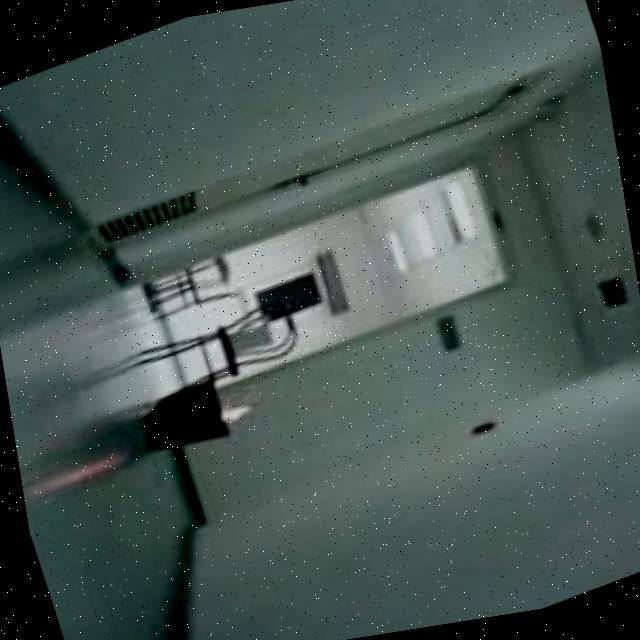fire: (218, 400, 258, 424)
